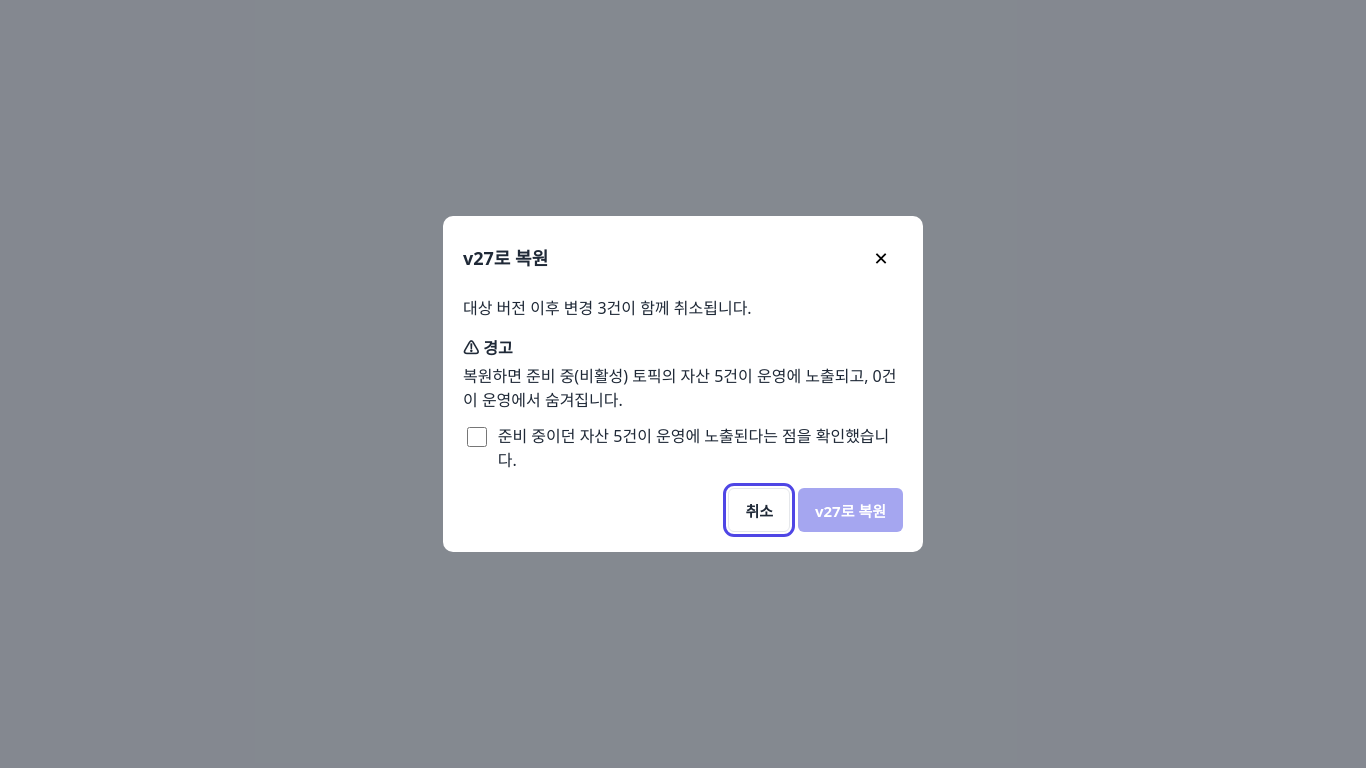
Test: RestoreDialog › [No.22 L-7] 400 VALIDATION_FAILED(field=acknowledgeTopicExposure)면 미리보기를 재조회하고 체크박스를 다시 미체크로 보여준다
Click the checkbox labelled "준비 중이던 자산 5건이 운영에 노출된다는 점을 확인했습니다." at (477, 437), box 467,427 -> 487,447
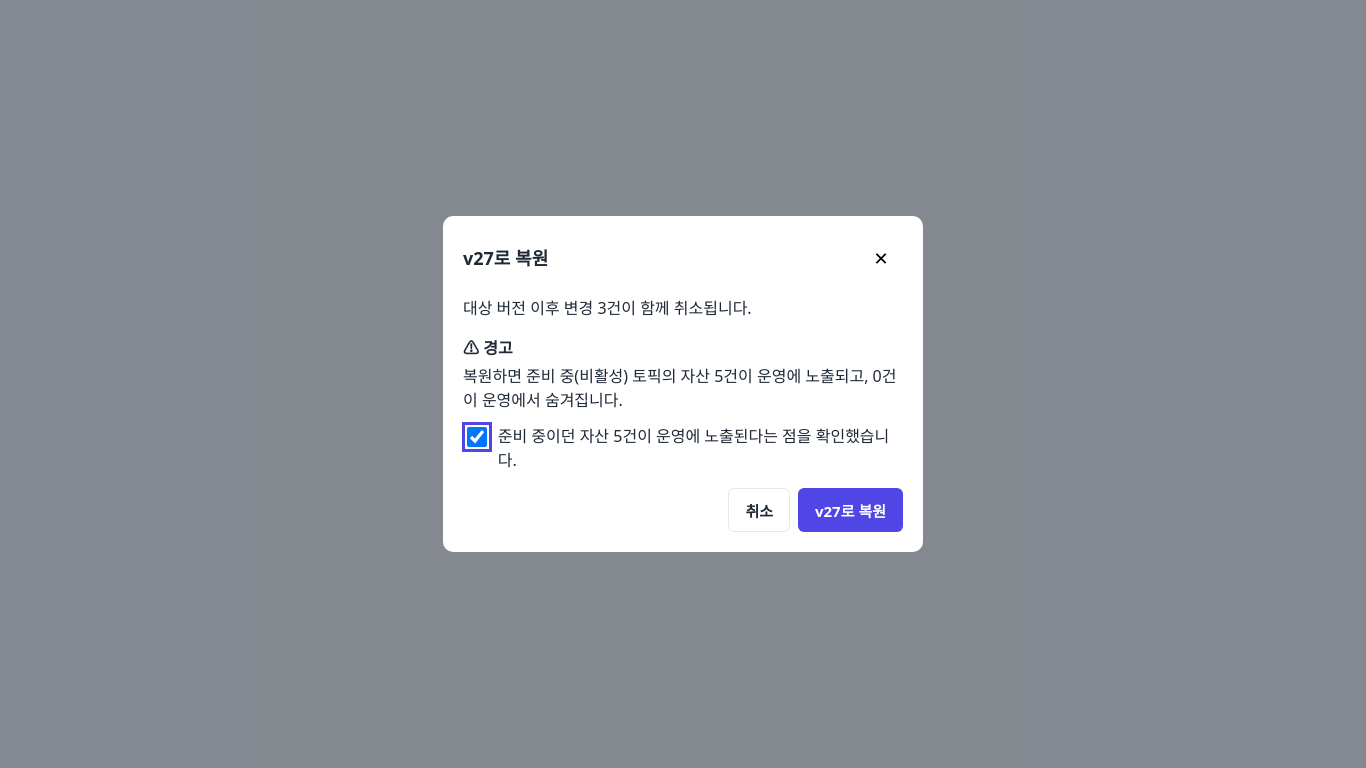
Now the button "v27로 복원" is enabled
Click the button "v27로 복원" at (850, 510), box 798,488 -> 903,532
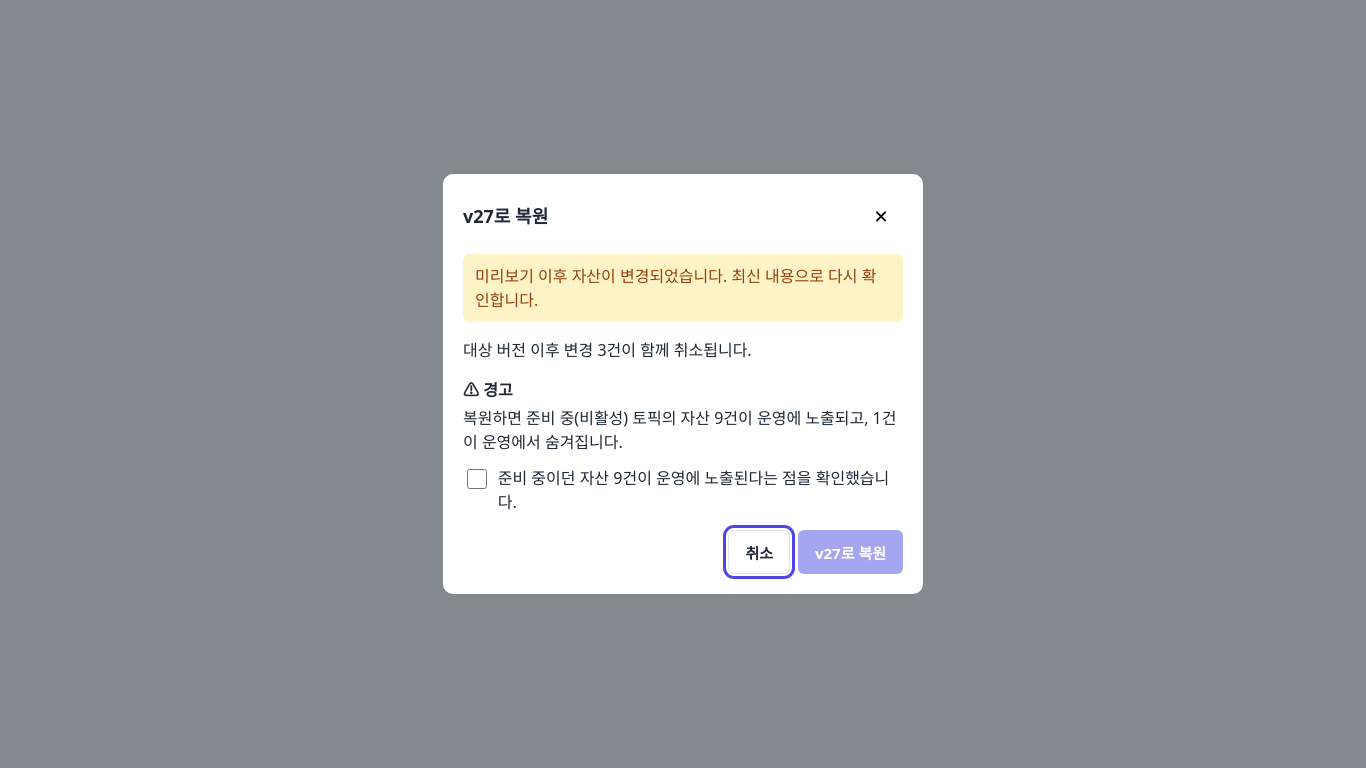
Now the checkbox labelled "준비 중이던 자산 9건이 운영에 노출된다는 점을 확인했습니다." is not checked, box 467,469 -> 487,489
Now the text "미리보기 이후 자산이 변경되었습니다. 최신 내용으로 다시 확인합니다." is shown, box 463,254 -> 903,322
Now the list item "복원하면 준비 중(비활성) 토픽의 자산 9건이 운영에 노출되고, 1건이 운영에서 숨겨집니다." is shown, box 463,406 -> 903,454
